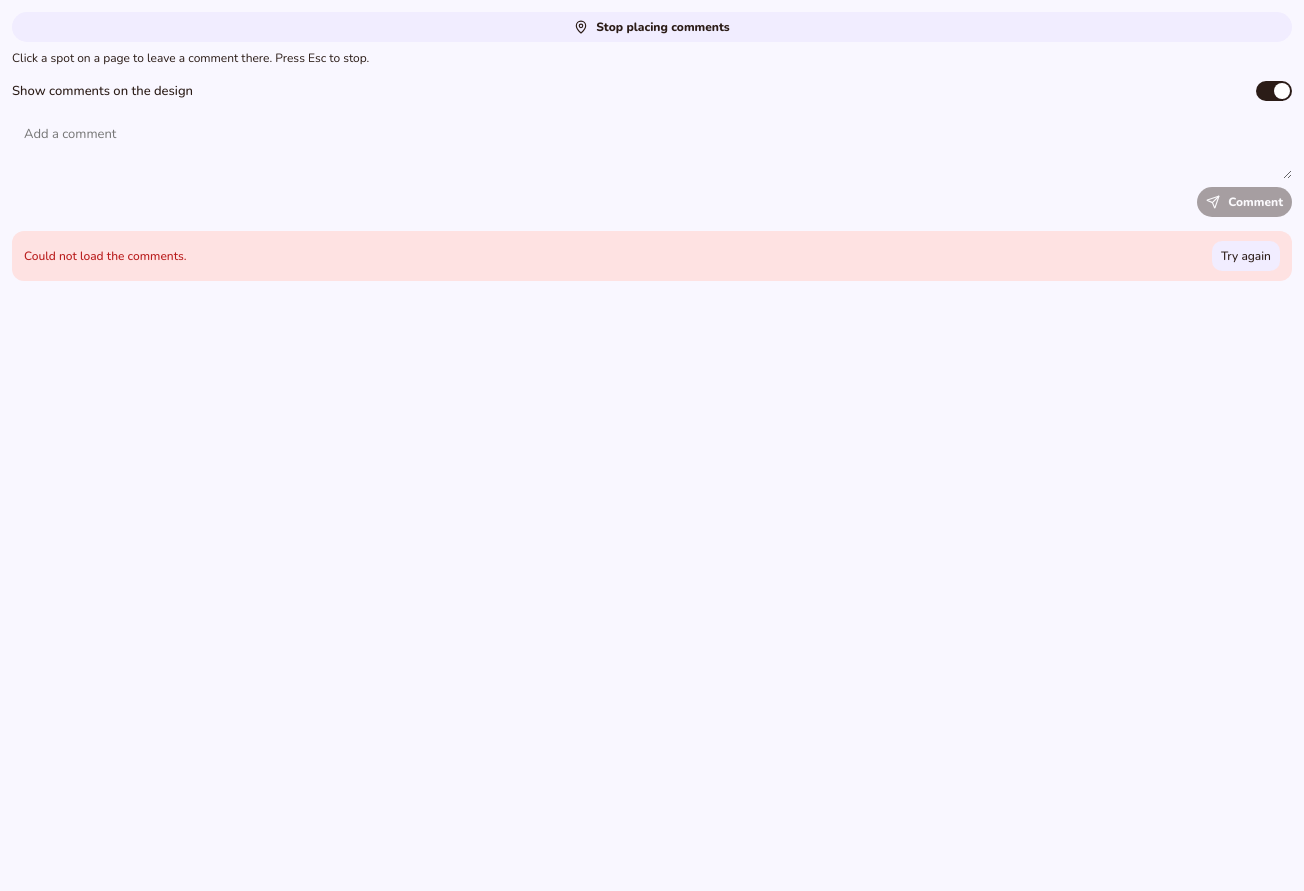
Test: the Comments sidebar › explains a failed load and loads again on request
The width and height of the screenshot is (1304, 891).
Expected: the message with test id "comments-error" shows "Could not load the comments.", x1=24 y1=248 x2=186 y2=264
Step 1. Click the button with test id "comments-retry" → (1246, 256), box x1=1212 y1=241 x2=1280 y2=271
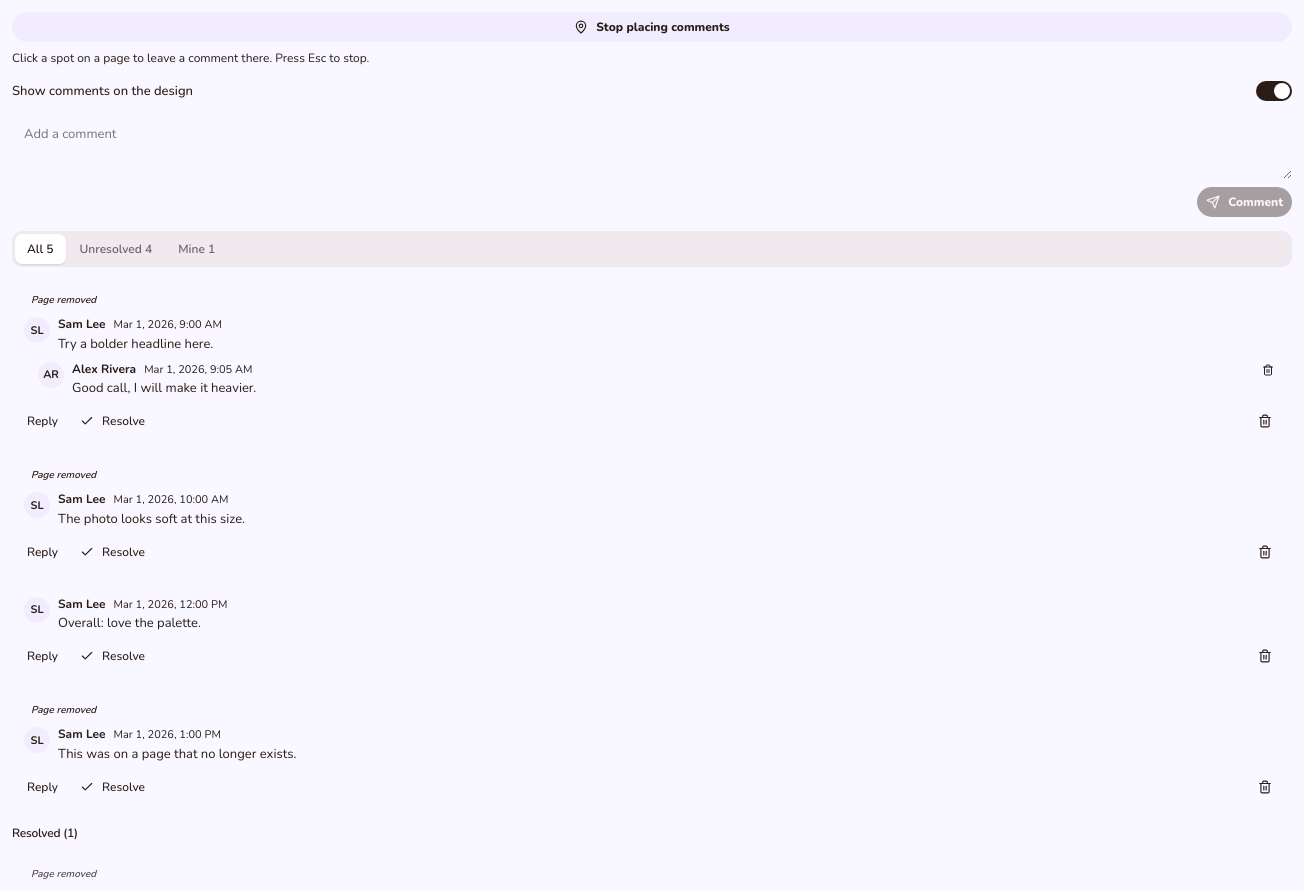
Now the message with test id "comments-error" is gone
